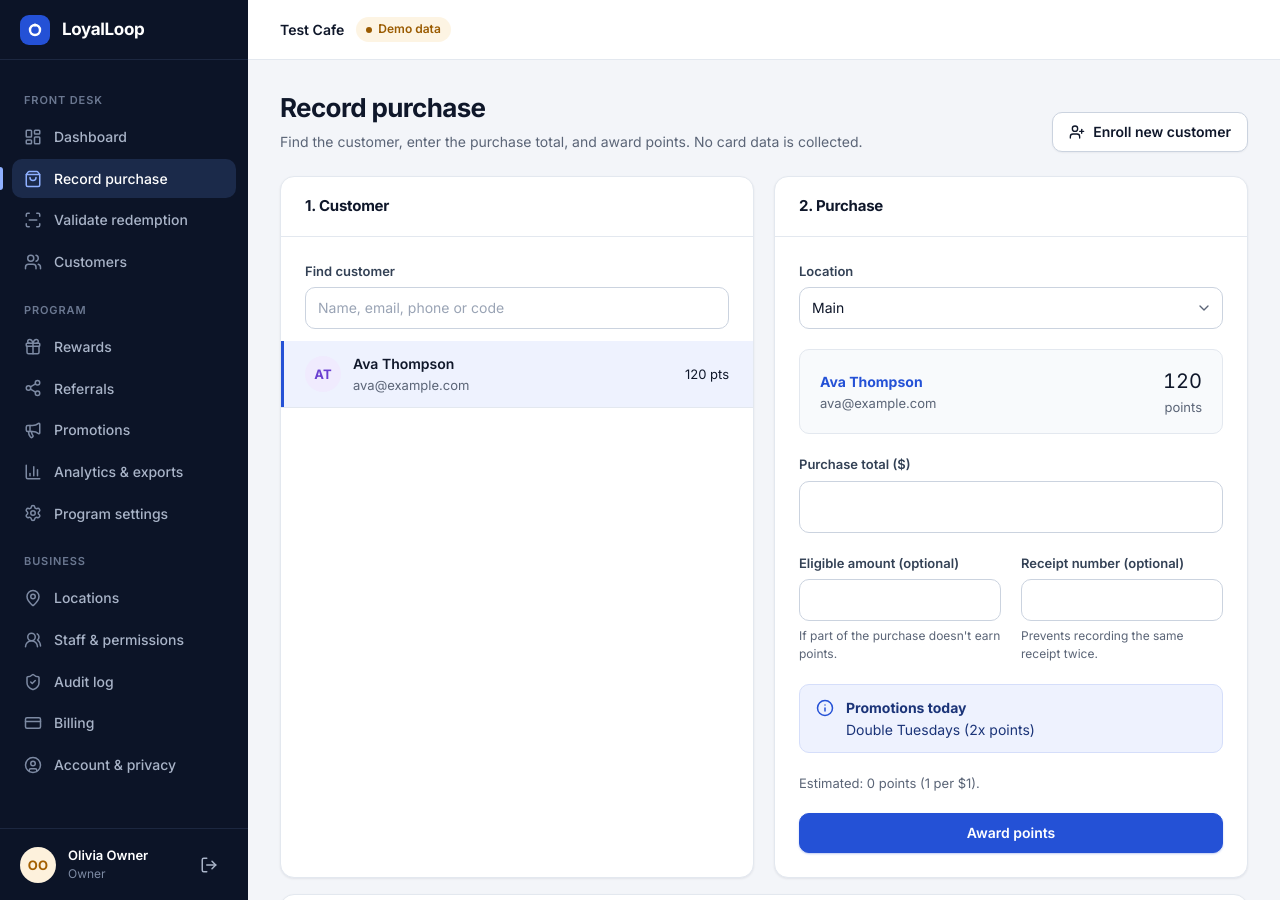
Test: promotions › shows today's promotions and the boosted estimate at checkout
Expected: the text "Promotions today Double Tuesdays (2x points)" is shown, [846,697,1035,740]
Type "10.00" into the field labelled "Purchase total ($)" at (1011, 507), box [799,481,1223,533]
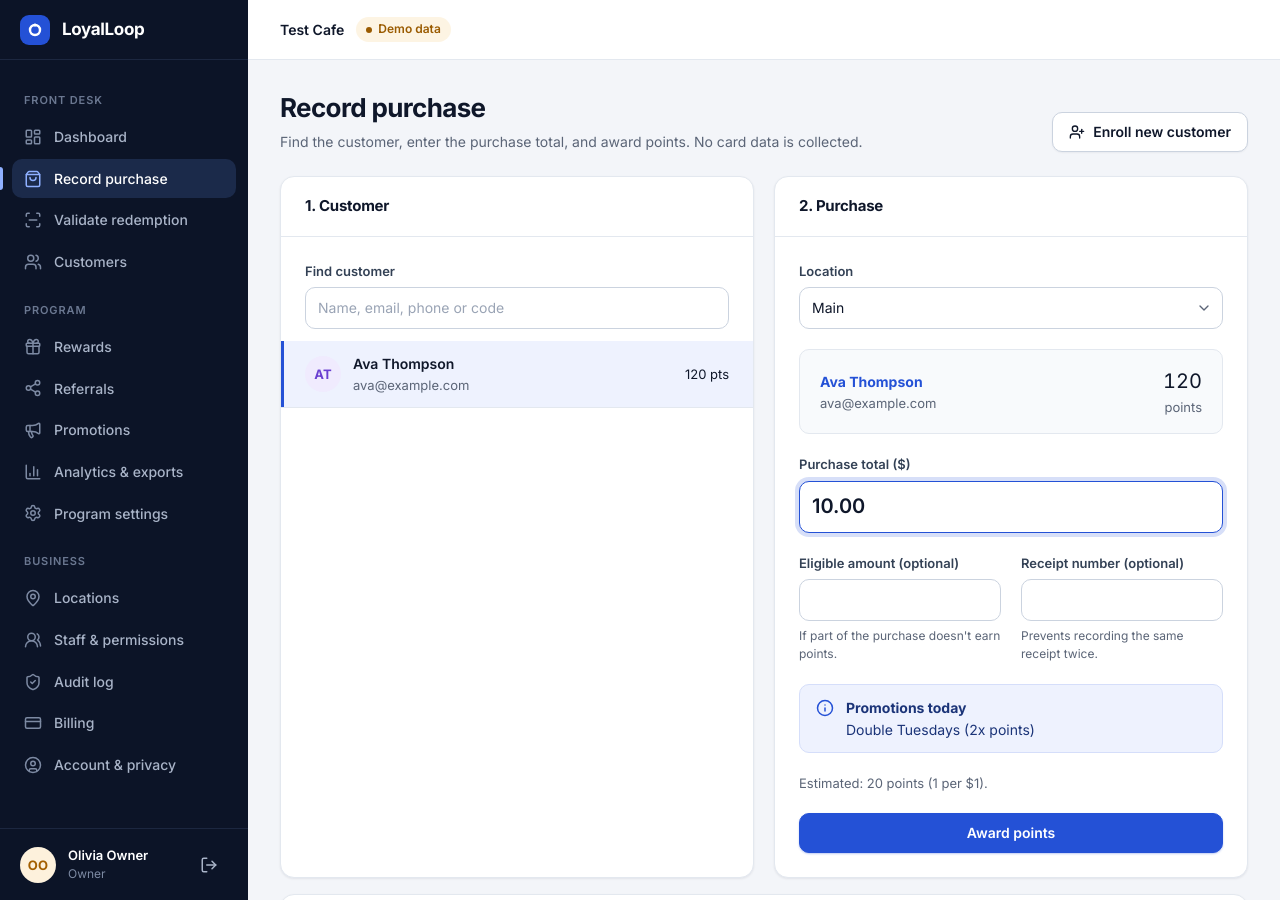
Result: the text "Estimated: 20 points (1 per $1)." is shown at [799,775,988,791]
